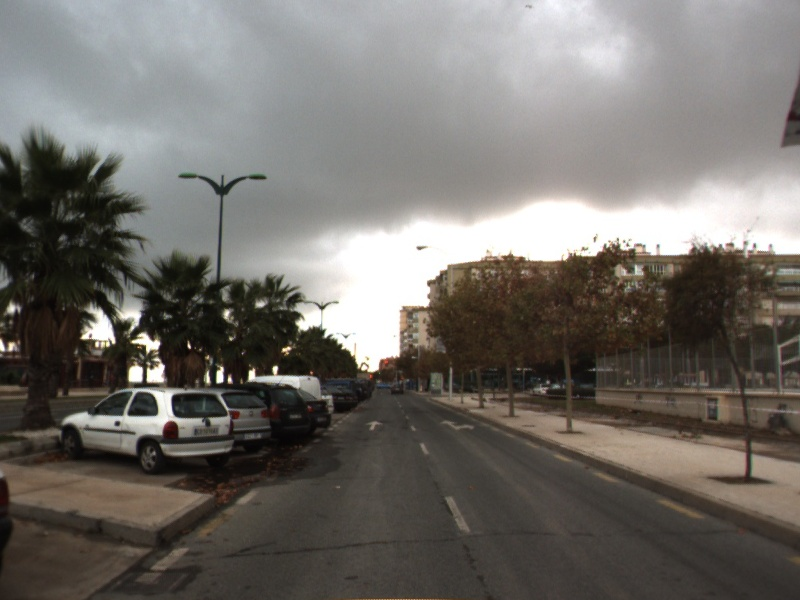STRAIGHT: (363, 419, 385, 432)
STRAIGHT_RIGHT: (438, 418, 478, 432)
